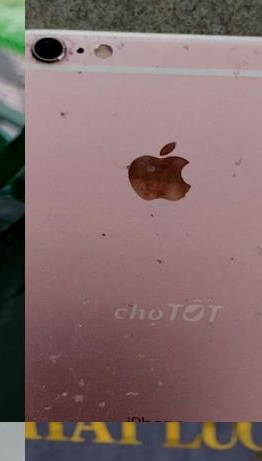scratch: (25, 325, 243, 422), (25, 23, 262, 84), (106, 133, 198, 209), (88, 219, 180, 274), (229, 130, 257, 193), (43, 97, 76, 135)
